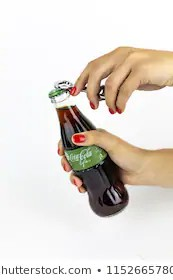coke-glass-bottle: (36, 68, 141, 227)
